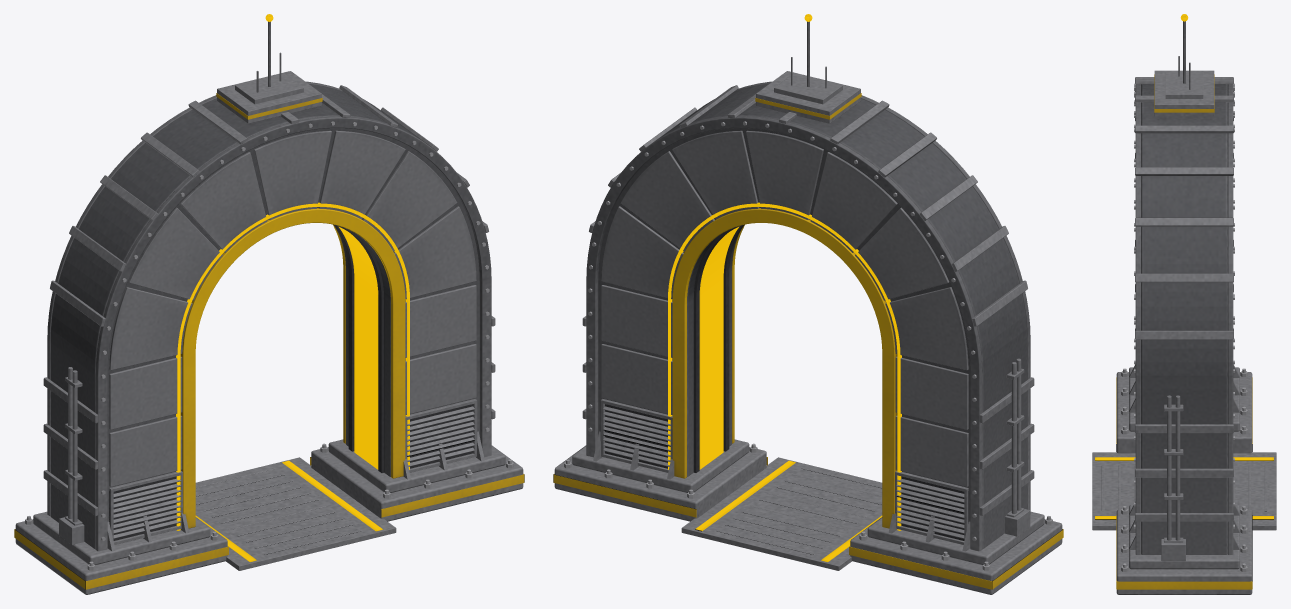
File: nodexeus-gate.glb
3 views of the same model, side by side, from view 1: azimuth 30°, elevation 25°; view 2: azimuth 150°, elevation 25°; view 3: azimuth 270°, elevation 25° (orthographic). The views are drawn at different scales.
Visible parts, largest first — view 1: Gate_Baked; view 2: Gate_Baked; view 3: Gate_Baked.
Boxes of the visible parts, x1,y1,x2,y2 form: Gate_Baked: (14,14,524,594); Gate_Baked: (553,14,1063,594); Gate_Baked: (1092,14,1276,594).
Size of the model in its own units: 8.91 by 9.75 by 3.4.
Materials: 1 (1 with a texture image).
